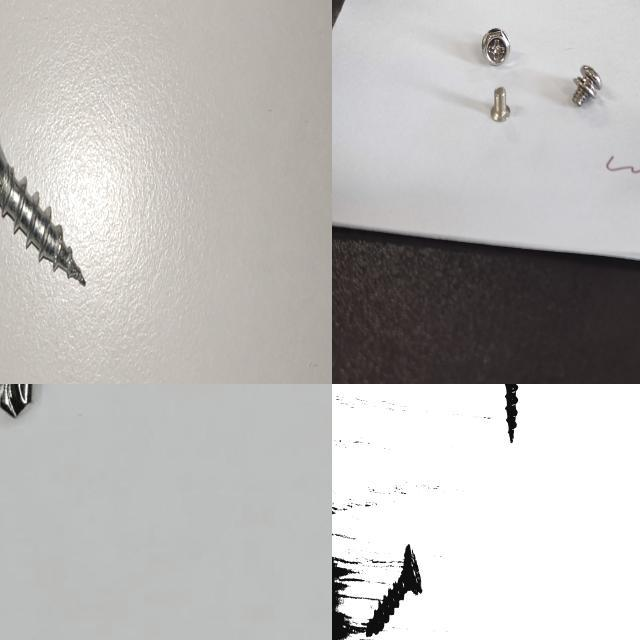Screw: (0, 141, 86, 285), (366, 544, 422, 637), (570, 63, 604, 109), (479, 24, 512, 68), (488, 85, 512, 124), (506, 384, 518, 442)
